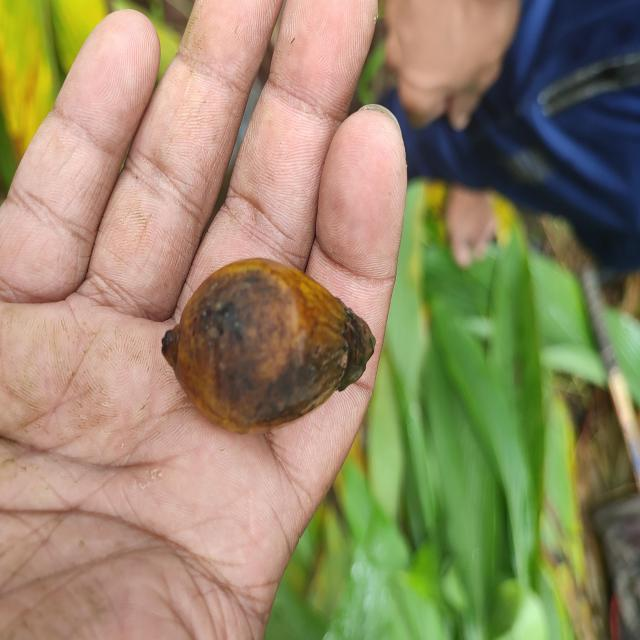damaged: (159, 259, 379, 435)
